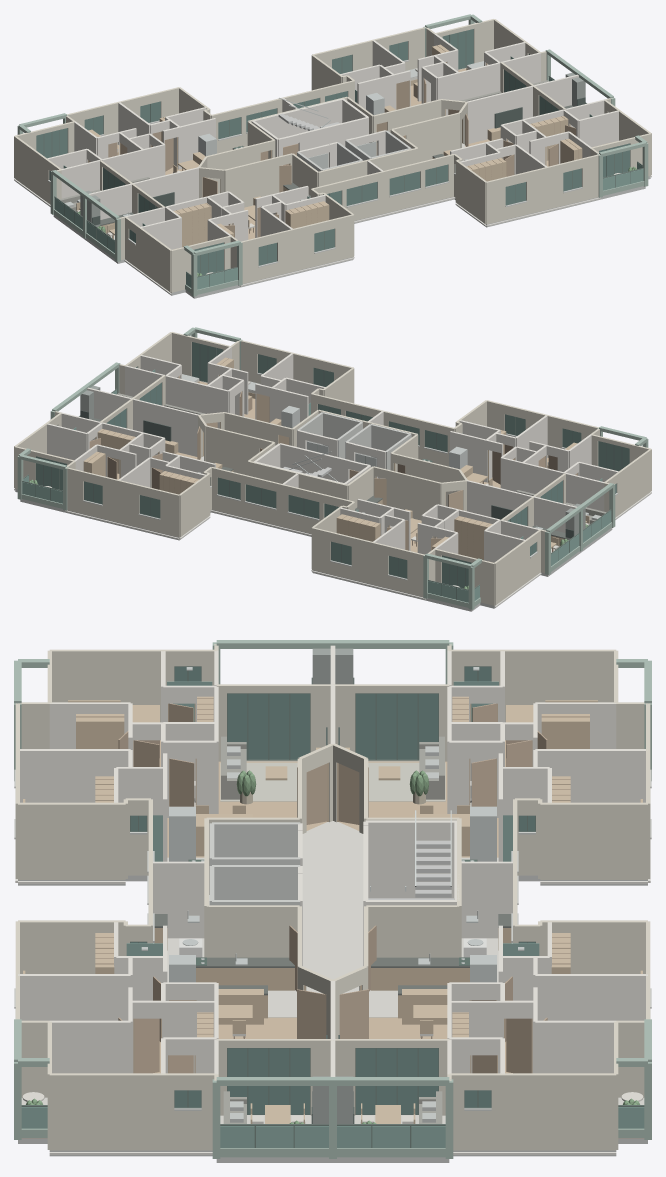
The model's file is Grupo_11_Pavimento_4_Apartamentos.glb.
3 renders of one model, top to bottom at view 1: azimuth 30°, elevation 25°; view 2: azimuth 150°, elevation 25°; view 3: azimuth 270°, elevation 25°, orthographic. The views are drawn at different scales.
Visible parts, largest first — view 1: Pavimento_01/Apartamento_0104/Arquitetura/Fachadas__Fachada_, Pavimento_01/Apartamento_0103/Arquitetura/Fachadas__Fachada_, Pavimento_01/Apartamento_0101/Arquitetura/Paredes_internas__, Pavimento_01/Apartamento_0101/Arquitetura/Fachadas__Fachada_, Pavimento_01/Apartamento_0102/Arquitetura/Paredes_internas__, Pavimento_01/Apartamento_0102/Arquitetura/Fachadas__Fachada_, Pavimento_01/Apartamento_0103/Arquitetura/Paredes_internas__, Pavimento_01/Apartamento_0104/Arquitetura/Paredes_internas__, Pavimento_01/Apartamento_0102/Arquitetura/Compartilhadas/Eix, Pavimento_01/Apartamento_0103/Arquitetura/Vidros__Vidro_fach, Pavimento_01/Apartamento_0104/Arquitetura/Vidros__Vidro_fach, Pavimento_01/Apartamento_0101/Arquitetura/Vidros__Vidro_fach (+32 smaller); view 2: Pavimento_01/Apartamento_0101/Arquitetura/Fachadas__Fachada_, Pavimento_01/Apartamento_0102/Arquitetura/Fachadas__Fachada_, Pavimento_01/Apartamento_0104/Arquitetura/Paredes_internas__, Pavimento_01/Apartamento_0104/Arquitetura/Fachadas__Fachada_, Pavimento_01/Apartamento_0103/Arquitetura/Paredes_internas__, Pavimento_01/Apartamento_0103/Arquitetura/Fachadas__Fachada_, Pavimento_01/Apartamento_0102/Arquitetura/Paredes_internas__, Pavimento_01/Apartamento_0101/Arquitetura/Paredes_internas__, Pavimento_01/Apartamento_0102/Arquitetura/Compartilhadas/Eix, Pavimento_01/Apartamento_0102/Arquitetura/Vidros__Vidro_fach, Pavimento_01/Apartamento_0101/Arquitetura/Vidros__Vidro_fach, Pavimento_01/Apartamento_0104/Arquitetura/Vidros__Vidro_fach (+30 smaller); view 3: Pavimento_01/Apartamento_0102/Arquitetura/Fachadas__Fachada_, Pavimento_01/Apartamento_0103/Arquitetura/Fachadas__Fachada_, Pavimento_01/Apartamento_0104/Arquitetura/Fachadas__Fachada_, Pavimento_01/Apartamento_0101/Arquitetura/Fachadas__Fachada_, Pavimento_01/Apartamento_0103/Arquitetura/Paredes_internas__, Pavimento_01/Apartamento_0102/Arquitetura/Paredes_internas__, Pavimento_01/Apartamento_0101/Arquitetura/Paredes_internas__, Pavimento_01/Apartamento_0104/Arquitetura/Paredes_internas__, Pavimento_01/Circulacao_inferida/Nucleo/Pisos__Porcelanato, Pavimento_01/Apartamento_0101/Arquitetura/Vidros__Vidro_fach, Pavimento_01/Apartamento_0104/Arquitetura/Vidros__Vidro_fach, Pavimento_01/Circulacao_inferida/Nucleo/Escada/Paredes__Pare (+58 smaller).
Boxes of the visible parts, box(x1,y1,x2,y2) form: Pavimento_01/Apartamento_0104/Arquitetura/Fachadas__Fachada_: box(118, 153, 383, 292); Pavimento_01/Apartamento_0103/Arquitetura/Fachadas__Fachada_: box(383, 98, 651, 224); Pavimento_01/Apartamento_0101/Arquitetura/Paredes_internas__: box(47, 102, 215, 198); Pavimento_01/Apartamento_0101/Arquitetura/Fachadas__Fachada_: box(14, 87, 282, 204); Pavimento_01/Apartamento_0102/Arquitetura/Paredes_internas__: box(340, 34, 540, 115); Pavimento_01/Apartamento_0102/Arquitetura/Fachadas__Fachada_: box(282, 19, 546, 143); Pavimento_01/Apartamento_0103/Arquitetura/Paredes_internas__: box(450, 99, 618, 174); Pavimento_01/Apartamento_0104/Arquitetura/Paredes_internas__: box(125, 186, 325, 249); Pavimento_01/Apartamento_0102/Arquitetura/Compartilhadas/Eix: box(467, 74, 578, 143); Pavimento_01/Apartamento_0103/Arquitetura/Vidros__Vidro_fach: box(389, 96, 629, 205); Pavimento_01/Apartamento_0104/Arquitetura/Vidros__Vidro_fach: box(129, 182, 377, 275); Pavimento_01/Apartamento_0101/Arquitetura/Vidros__Vidro_fach: box(36, 101, 276, 190); Pavimento_01/Apartamento_0101/Arquitetura/Fachadas__Fachada_: box(282, 466, 547, 605); Pavimento_01/Apartamento_0102/Arquitetura/Fachadas__Fachada_: box(14, 411, 282, 537); Pavimento_01/Apartamento_0104/Arquitetura/Paredes_internas__: box(450, 415, 618, 511); Pavimento_01/Apartamento_0104/Arquitetura/Fachadas__Fachada_: box(383, 400, 651, 517); Pavimento_01/Apartamento_0103/Arquitetura/Paredes_internas__: box(125, 347, 325, 428); Pavimento_01/Apartamento_0103/Arquitetura/Fachadas__Fachada_: box(119, 332, 383, 456); Pavimento_01/Apartamento_0102/Arquitetura/Paredes_internas__: box(47, 412, 215, 487); Pavimento_01/Apartamento_0101/Arquitetura/Paredes_internas__: box(340, 499, 540, 562); Pavimento_01/Apartamento_0102/Arquitetura/Compartilhadas/Eix: box(87, 387, 198, 456); Pavimento_01/Apartamento_0102/Arquitetura/Vidros__Vidro_fach: box(36, 409, 276, 518); Pavimento_01/Apartamento_0101/Arquitetura/Vidros__Vidro_fach: box(288, 495, 536, 588); Pavimento_01/Apartamento_0104/Arquitetura/Vidros__Vidro_fach: box(389, 414, 629, 503); Pavimento_01/Apartamento_0102/Arquitetura/Fachadas__Fachada_: box(332, 862, 650, 1150); Pavimento_01/Apartamento_0103/Arquitetura/Fachadas__Fachada_: box(15, 862, 332, 1150); Pavimento_01/Apartamento_0104/Arquitetura/Fachadas__Fachada_: box(15, 644, 333, 894); Pavimento_01/Apartamento_0101/Arquitetura/Fachadas__Fachada_: box(332, 644, 650, 879); Pavimento_01/Apartamento_0103/Arquitetura/Paredes_internas__: box(18, 922, 218, 1074); Pavimento_01/Apartamento_0102/Arquitetura/Paredes_internas__: box(447, 922, 647, 1074); Pavimento_01/Apartamento_0101/Arquitetura/Paredes_internas__: box(447, 650, 647, 861); Pavimento_01/Apartamento_0104/Arquitetura/Paredes_internas__: box(20, 650, 218, 861); Pavimento_01/Circulacao_inferida/Nucleo/Pisos__Porcelanato: box(209, 821, 363, 993); Pavimento_01/Apartamento_0101/Arquitetura/Vidros__Vidro_fach: box(356, 666, 535, 831); Pavimento_01/Apartamento_0104/Arquitetura/Vidros__Vidro_fach: box(130, 666, 309, 831); Pavimento_01/Circulacao_inferida/Nucleo/Escada/Paredes__Pare: box(365, 820, 456, 905).
Bounding box in the file's own units: 33.39 × 4.08 × 20.45.
